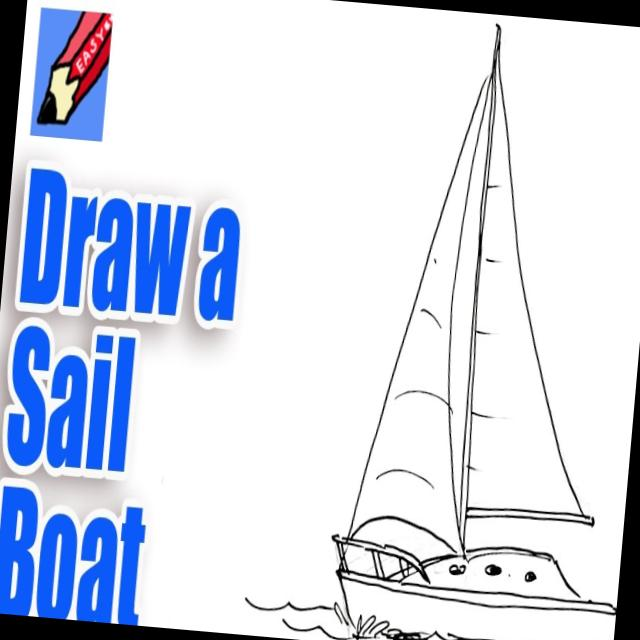boat: (321, 16, 640, 640)
